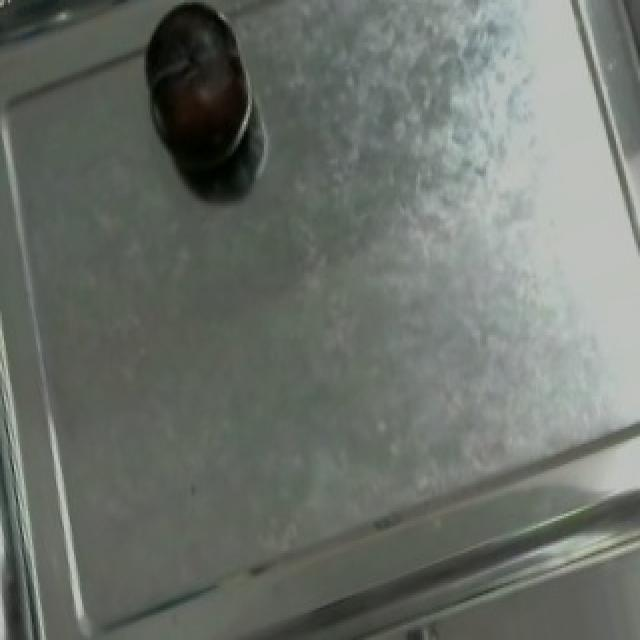Fruit: (128, 0, 262, 186)
